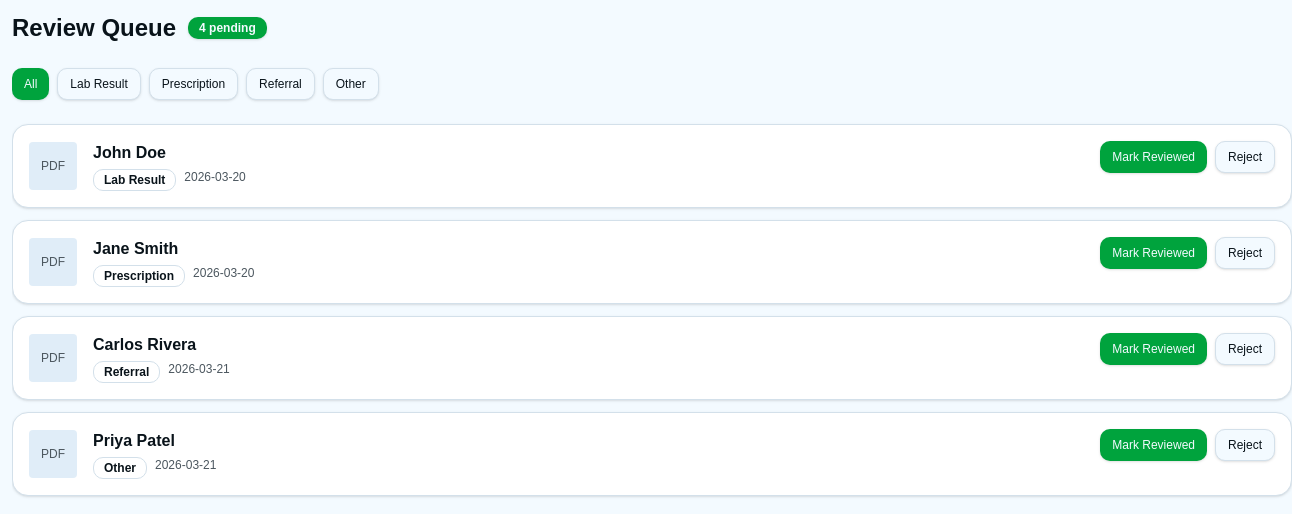
Test: ReviewQueuePage › Mark Reviewed removes item from list
This screenshot has width=1292, height=514.
Expected: the text "John Doe" is shown, top-left (93, 144), bottom-right (166, 161)
Click the button "Mark Reviewed" in the row of "John Doe". click: (1154, 157)
box: top-left (1100, 141), bottom-right (1207, 173)
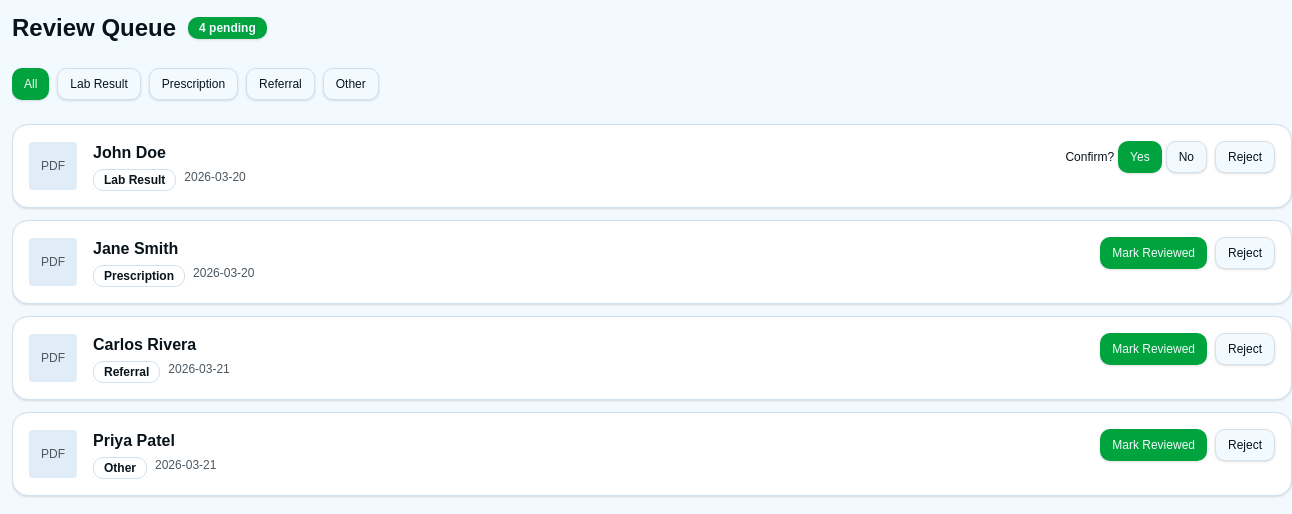
Expected: the button "Yes" is shown
# Click confirm
Click the button "Yes". click: (1140, 157)
box: top-left (1118, 141), bottom-right (1162, 173)
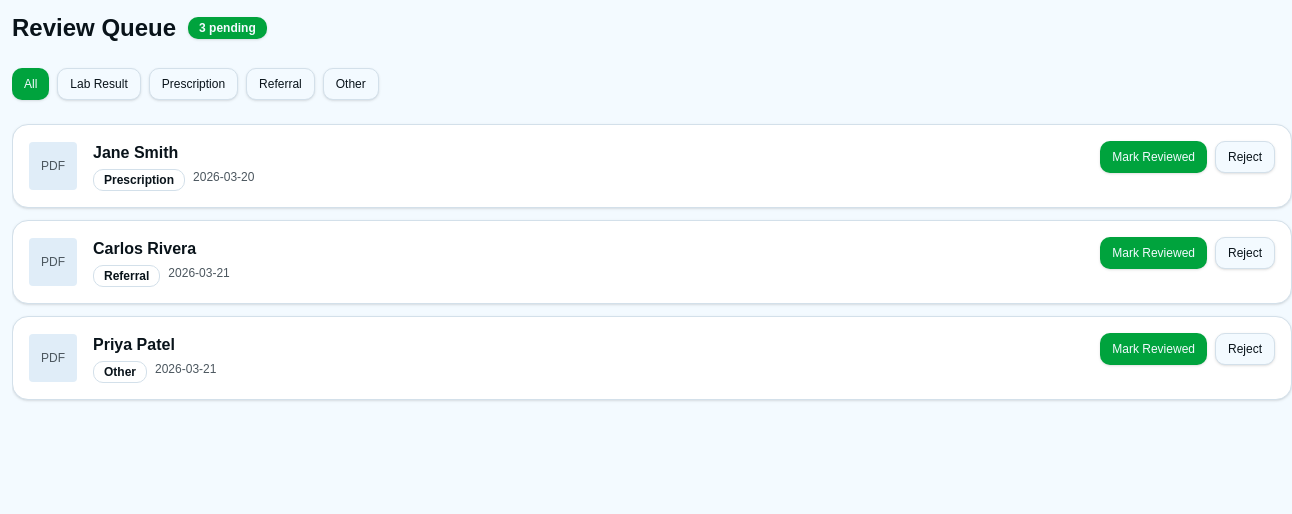
Expected: the text "John Doe" is gone
